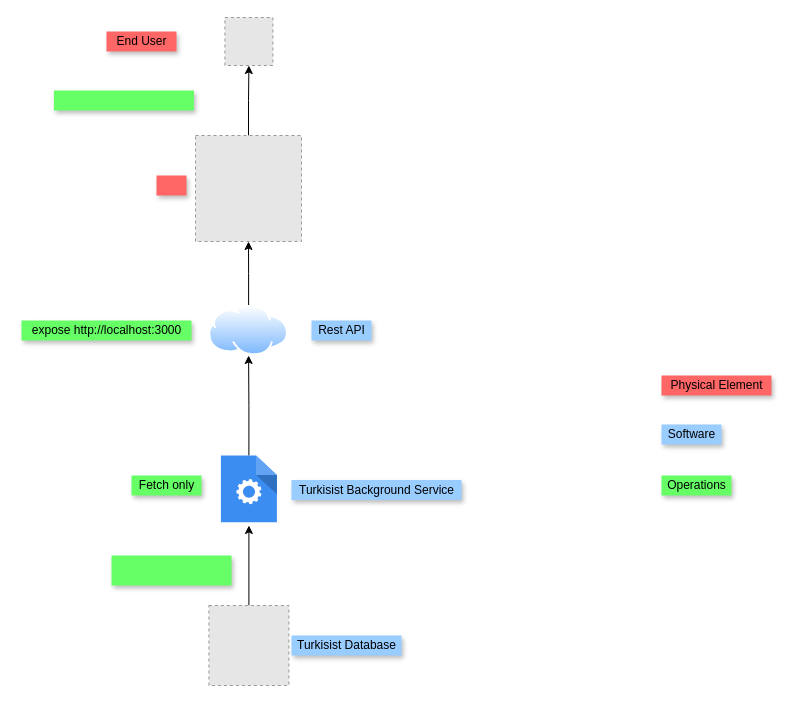
Image size: 794x703. Some labels were removed from this diagram. Grey dashed boxes stand in for pictures. Here are the shapes that lost their labels. From the top down, the centre of each, then its label:
the point at 124,101: Read result by Browser
the point at 172,186: PC
the point at 172,571: Service access DB by user/password
